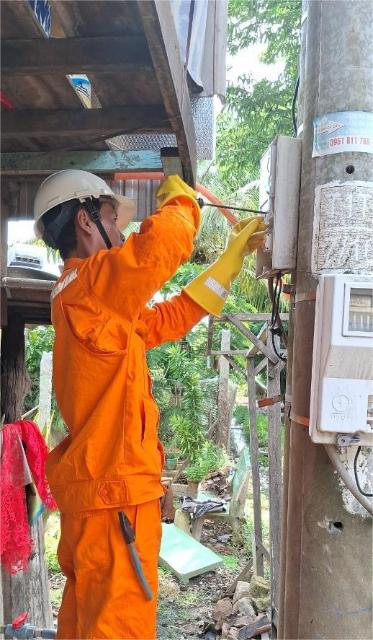gloves: (186, 211, 282, 333), (152, 153, 217, 253)
helmet: (25, 155, 135, 231)
